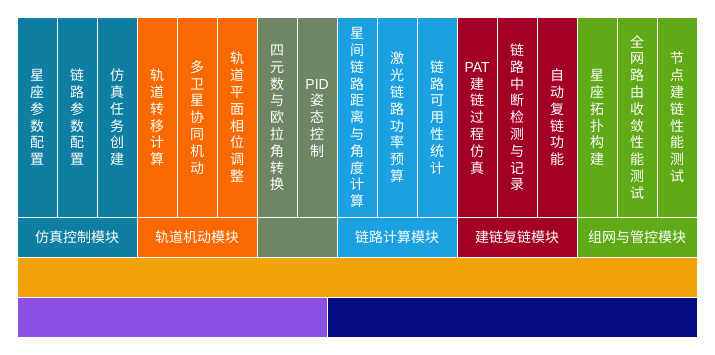
Some shapes in this 715 by 355 pixel diagram are drawn without their labels. The box of each missing label's shape, as (x1, y1, x2, y2) in pixels:
卫星轨道仿真: (326, 296, 698, 338)
大规模激光链路仿真: (16, 296, 328, 338)
姿态控 制 模块: (256, 216, 338, 258)
软件接口: (16, 256, 698, 298)
